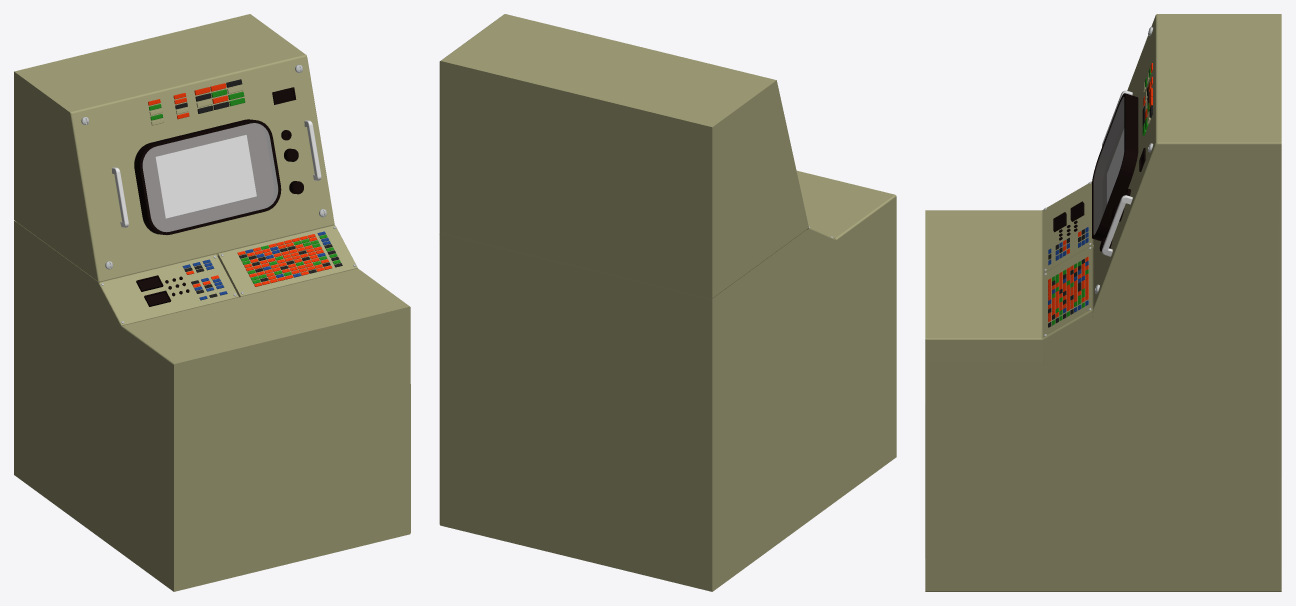
Rendered from OpcionesMenu_Ok.fbx.
3 renders of one model, left to right at view 1: azimuth 30°, elevation 25°; view 2: azimuth 150°, elevation 25°; view 3: azimuth 270°, elevation 25°, orthographic. The views are drawn at different scales.
Visible parts, largest first — view 1: Maquina, Cristal, PlasticoPantalla, Pantalla, BotoneraGrande, BotoneraSuperior, Maquina.002, Asas, Botonerapeque, Potenciometro; view 2: Maquina; view 3: Maquina, PlasticoPantalla, Cristal, BotoneraGrande, Asas, Maquina.002, BotoneraSuperior, Pantalla.
Boxes of the visible parts, <box> form: Maquina: <box>14,14,410,591</box>; Cristal: <box>142,123,278,231</box>; PlasticoPantalla: <box>134,119,281,234</box>; Pantalla: <box>156,135,256,218</box>; BotoneraGrande: <box>237,231,342,286</box>; BotoneraSuperior: <box>148,79,245,125</box>; Maquina.002: <box>136,87,296,306</box>; Asas: <box>112,120,321,227</box>; Botonerapeque: <box>182,259,227,300</box>; Potenciometro: <box>165,130,303,296</box>; Maquina: <box>439,14,896,591</box>; Maquina: <box>925,14,1281,591</box>; PlasticoPantalla: <box>1092,93,1138,241</box>; Cristal: <box>1093,97,1124,234</box>; BotoneraGrande: <box>1048,257,1088,327</box>; Asas: <box>1102,90,1132,256</box>; Maquina.002: <box>1053,148,1145,232</box>; BotoneraSuperior: <box>1142,63,1152,135</box>; Pantalla: <box>1107,130,1123,203</box>.
Size of the model in its own units: 2.38 by 3.88 by 2.78.
